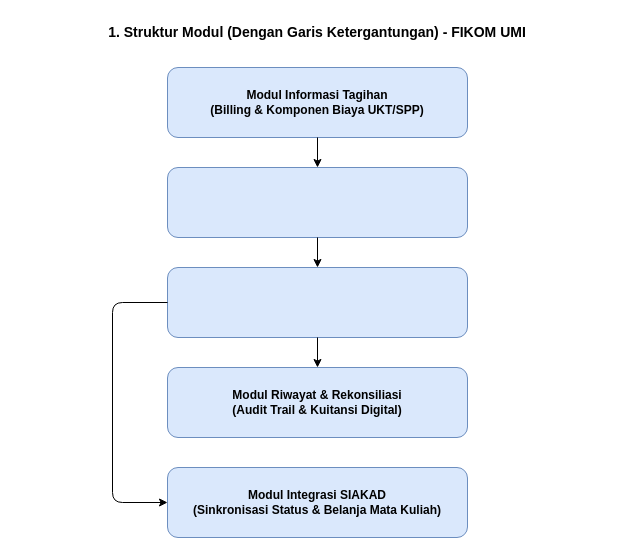
The diagram is 634 pixels wide and 555 high, and some of its shapes have lost their labels. Each missing label, with the centre of its shape:
"Modul Konfirmasi & Webhook (Listener Callback & Validasi Signature)" belongs at point 317,302.
"Modul Pembayaran BNI (Integrasi BNI Virtual Account Host-to-Host)" belongs at point 317,202.
